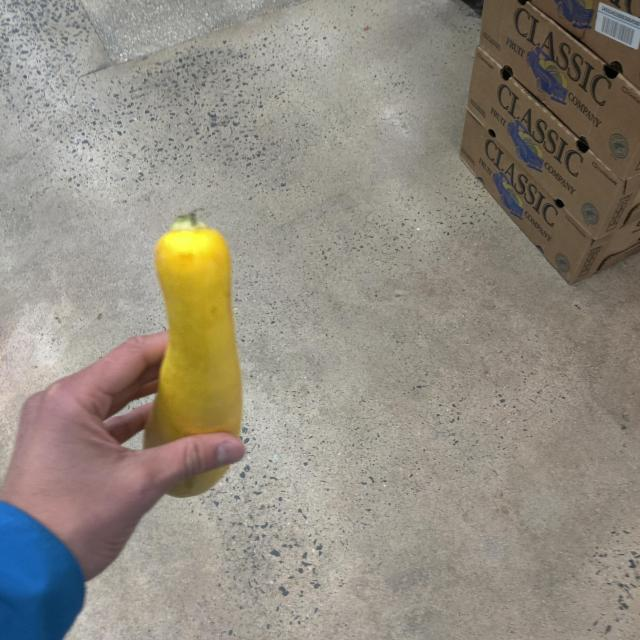Squash: (150, 218, 246, 499)
